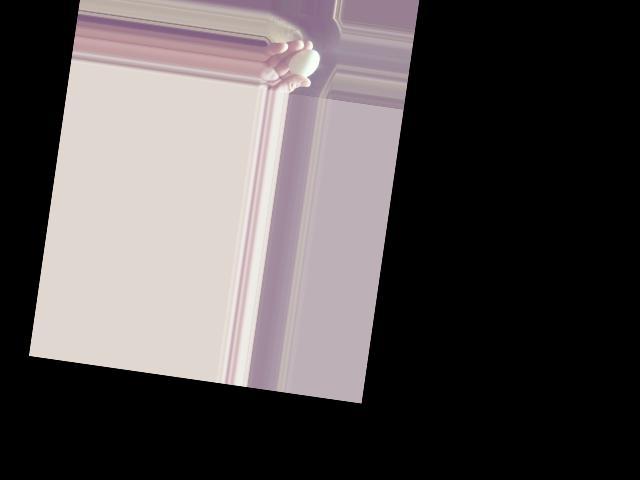egg: (287, 47, 320, 79)
